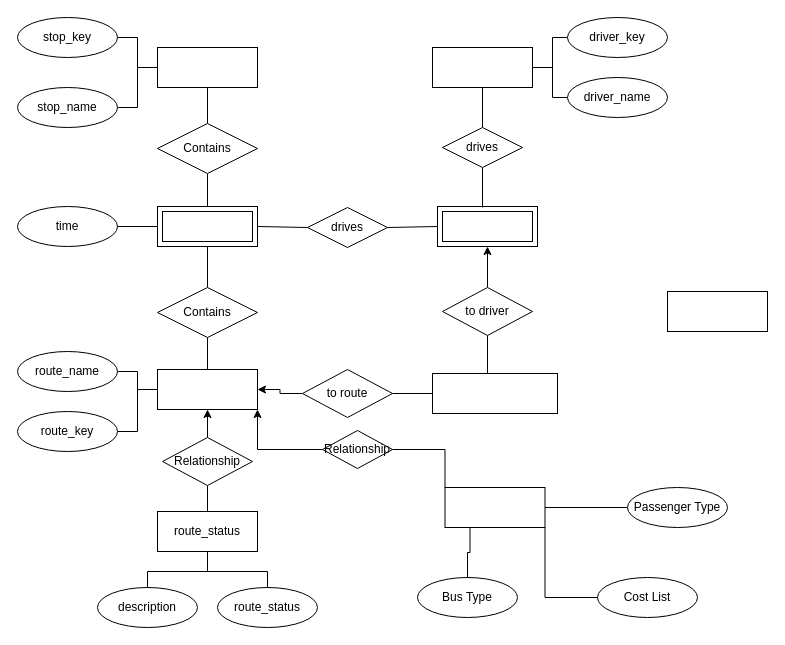
This 785x645 diagram has some shape labels left out. Each missing label, with the centre of its shape:
"Driver" goes at (482,67).
"driver_route" goes at (487,226).
"Events/Break Table/Schedules" goes at (717,311).
"Passenger_Reviews" goes at (495,393).
"Payment" goes at (494,507).
"Route" goes at (207,389).
"RouteStop" goes at (207,226).
"Stop" goes at (207,67).
